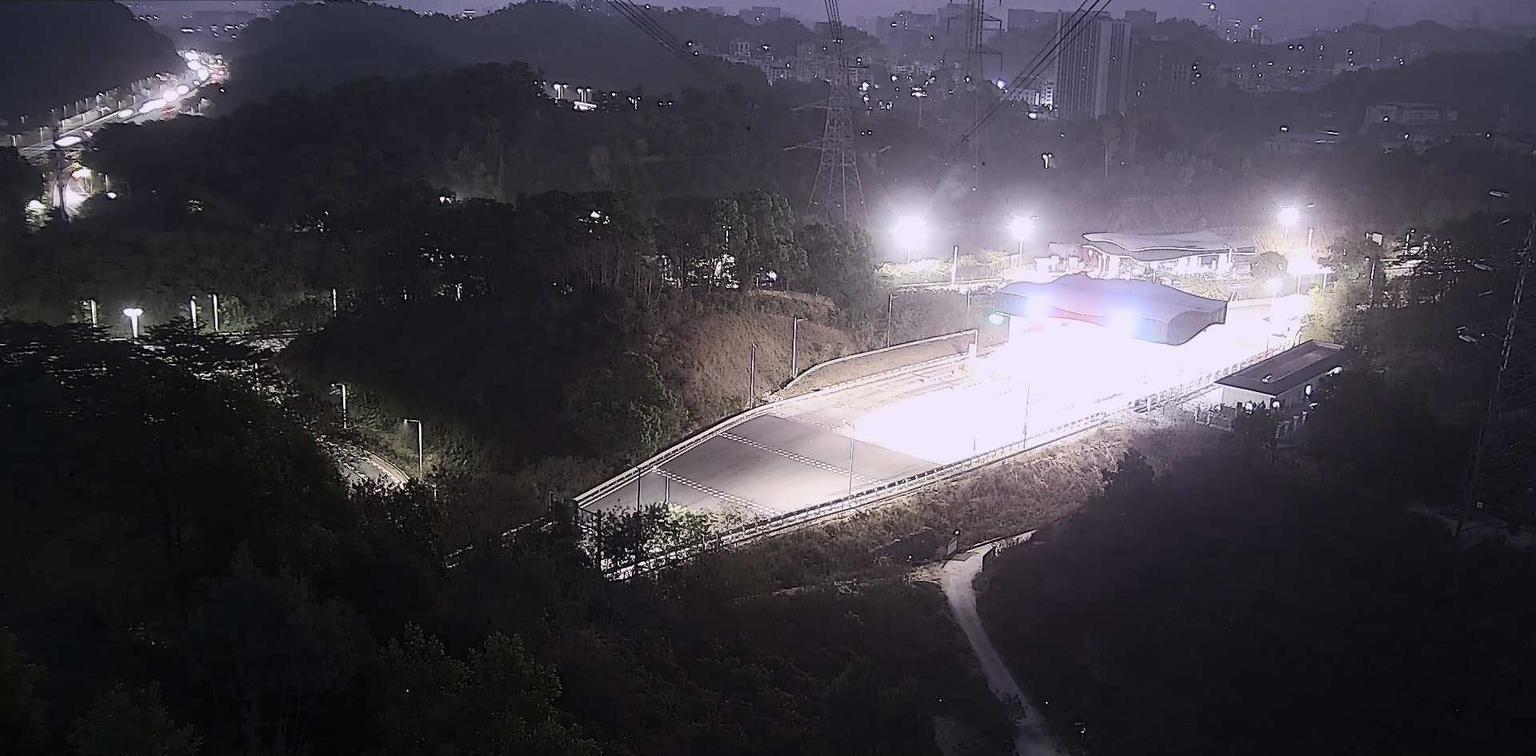过爆灯光: (850, 291, 1308, 462), (62, 185, 84, 210), (162, 85, 189, 102), (138, 98, 166, 112), (54, 136, 80, 146), (27, 198, 43, 210), (184, 51, 198, 61), (198, 69, 208, 80), (187, 61, 200, 69), (118, 110, 131, 117), (194, 80, 199, 85)
